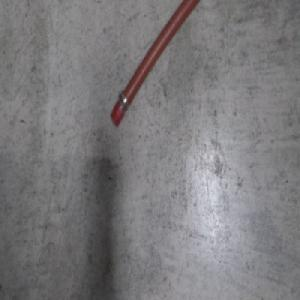Hose: (108, 0, 201, 128)
